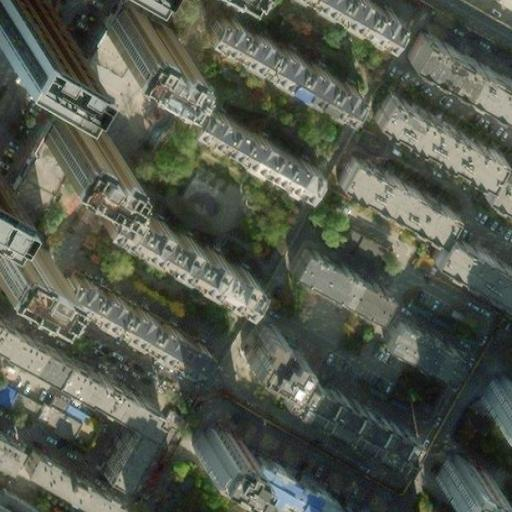building: (55, 269, 212, 374), (373, 88, 512, 205), (105, 189, 259, 293), (200, 0, 355, 100), (55, 356, 167, 485), (166, 90, 311, 188), (274, 360, 411, 454), (335, 153, 451, 235), (403, 31, 512, 116), (233, 447, 364, 512), (289, 241, 389, 313), (25, 447, 122, 512), (428, 228, 512, 298), (79, 0, 153, 71), (31, 109, 105, 173), (93, 3, 165, 65), (382, 317, 458, 373), (234, 323, 295, 382), (434, 451, 497, 505), (188, 422, 250, 476), (34, 388, 94, 443), (0, 225, 45, 284), (317, 0, 388, 33), (48, 88, 89, 129), (445, 403, 486, 444), (0, 381, 43, 419), (481, 373, 512, 420), (0, 432, 18, 464)
